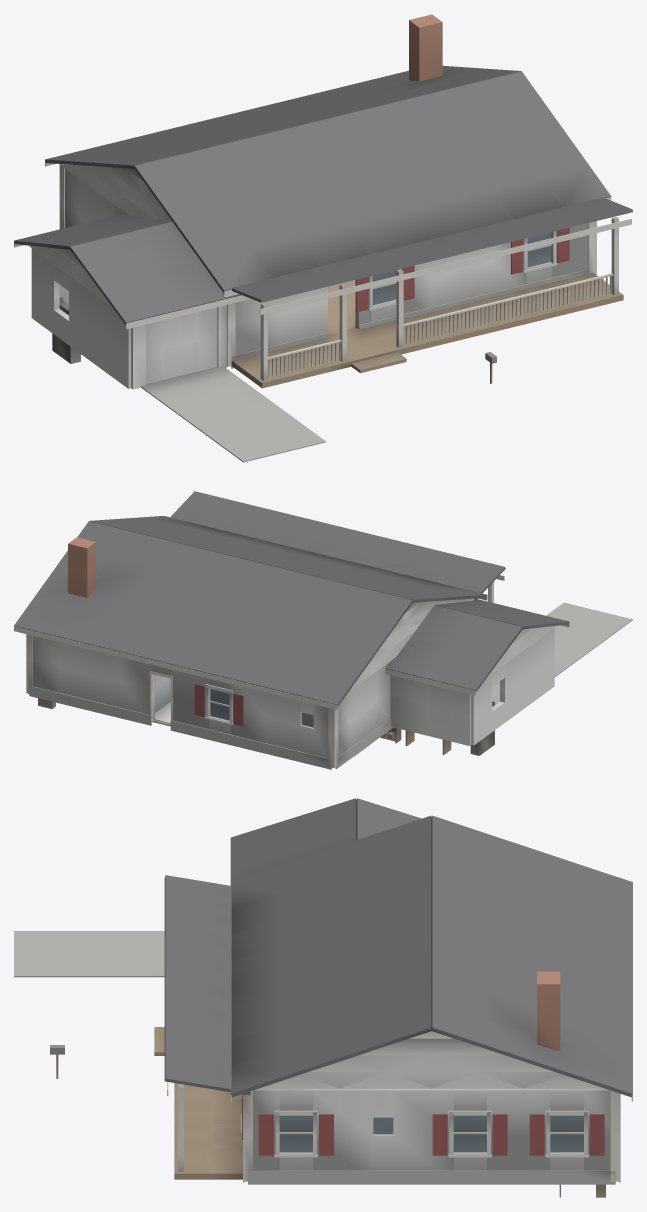
The model's file is casa_us_7.glb.
3 renders of one model, top to bottom at view 1: azimuth 30°, elevation 25°; view 2: azimuth 150°, elevation 25°; view 3: azimuth 270°, elevation 25°, orthographic. The views are drawn at different scales.
Visible parts, largest first — view 1: longe, ext, detalhe, dentro; view 2: longe, ext, detalhe, dentro; view 3: longe, ext, detalhe.
Boxes of the visible parts, x1,y1,x2,y2 form: longe: (14, 65, 632, 462); ext: (29, 14, 596, 389); detalhe: (146, 227, 569, 383); dentro: (328, 280, 355, 334); longe: (14, 491, 632, 709); ext: (26, 537, 556, 769); detalhe: (149, 671, 451, 756); dentro: (153, 674, 499, 726); longe: (14, 798, 632, 1179); ext: (243, 971, 620, 1184); detalhe: (50, 1027, 604, 1157).
Size of what is drawn, in the model's own units: 18.8 by 7.04 by 18.52.
